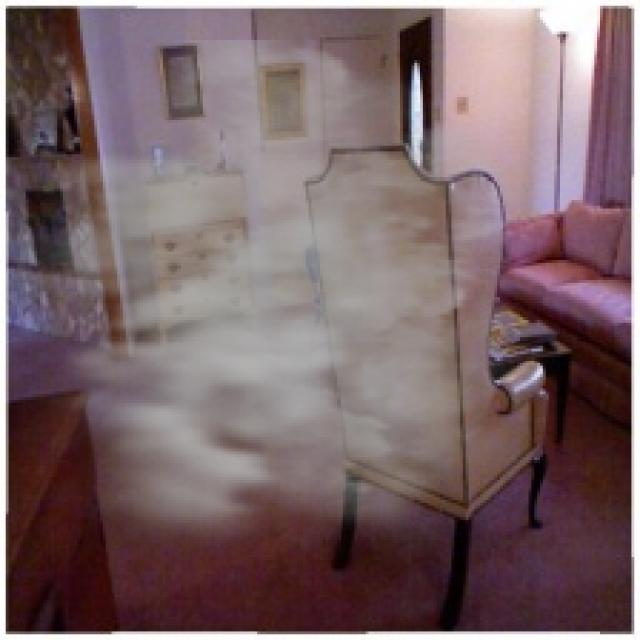smoke: (17, 40, 566, 571)
